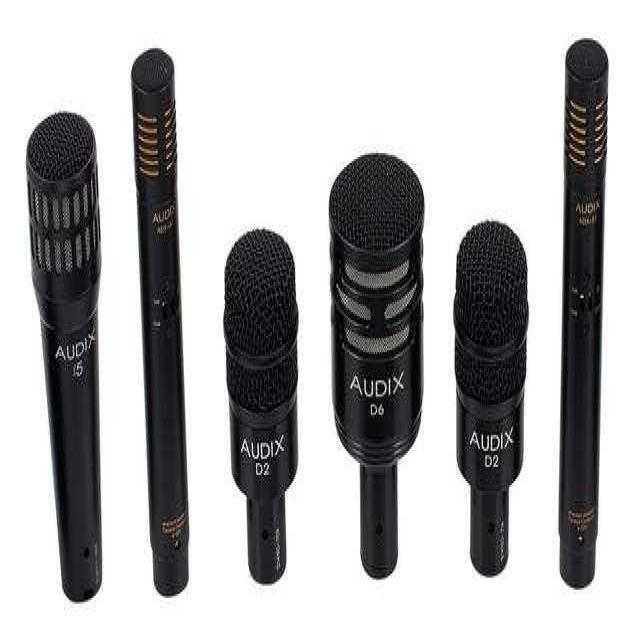microphone: (24, 109, 105, 601), (329, 154, 423, 576), (131, 46, 191, 594), (558, 40, 608, 589), (223, 226, 298, 582), (454, 221, 528, 576)
